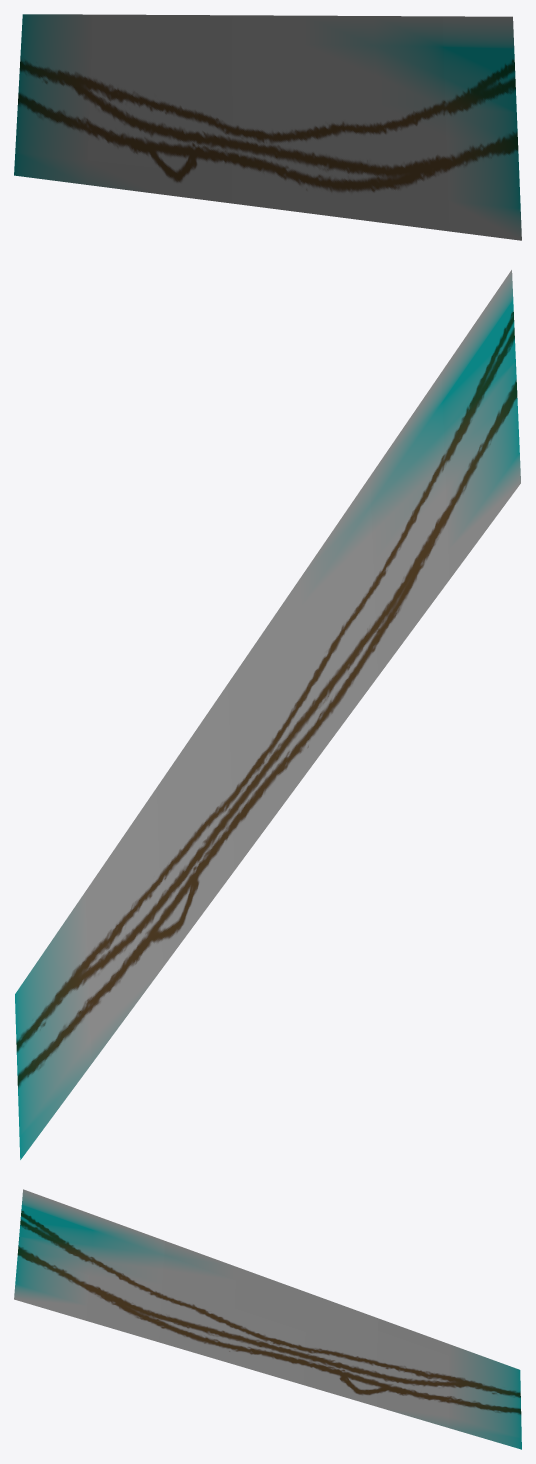
The model's file is SM_Rope_A02.gltf.
3 renders of one model, top to bottom at view 1: azimuth 30°, elevation 25°; view 2: azimuth 150°, elevation 25°; view 3: azimuth 270°, elevation 25°, orthographic. The views are drawn at different scales.
Parts seen in each view (by area): view 1: SM_Rope_A02_LOD0; view 2: SM_Rope_A02_LOD0; view 3: SM_Rope_A02_LOD0.
Boxes of the visible parts, x1=… form: SM_Rope_A02_LOD0: x1=14, y1=14, x2=521, y2=240; SM_Rope_A02_LOD0: x1=15, y1=270, x2=520, y2=1159; SM_Rope_A02_LOD0: x1=14, y1=1189, x2=521, y2=1449.
Size of what is drawn, in the model's own units: 0.0357 by 2.5 by 4.4.
1 material, 1 textured.
